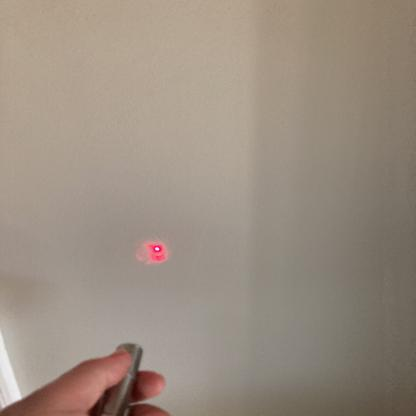target: (145, 243, 172, 259)
